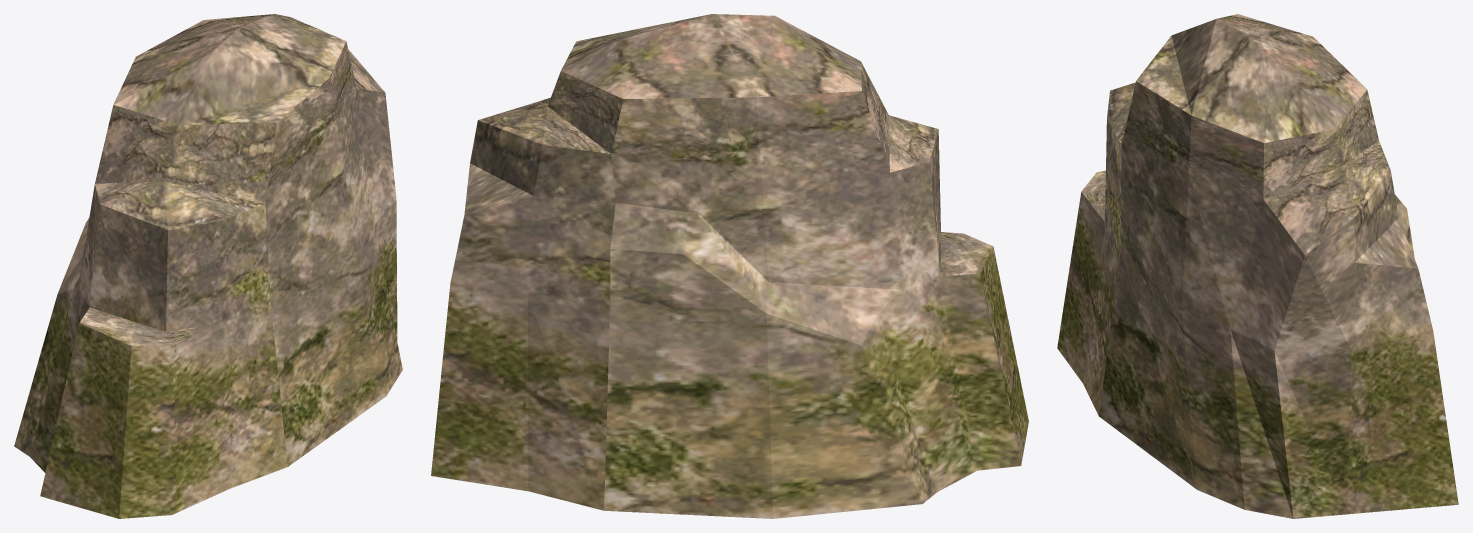
File: town_mountain_a__11___1_8.fbx
The picture shows the model from 3 angles, left to right: view 1: azimuth 30°, elevation 25°; view 2: azimuth 150°, elevation 25°; view 3: azimuth 270°, elevation 25°; orthographic projection. The views are drawn at different scales.
Visible parts, largest first — view 1: town_mountain_a__11___1_8; view 2: town_mountain_a__11___1_8; view 3: town_mountain_a__11___1_8.
Boxes of the visible parts, x1,y1,x2,y2 form: town_mountain_a__11___1_8: (14, 14, 402, 518); town_mountain_a__11___1_8: (431, 14, 1028, 518); town_mountain_a__11___1_8: (1057, 14, 1458, 518).
Size of the model in its own units: 36.25 by 31.4 by 29.18.
